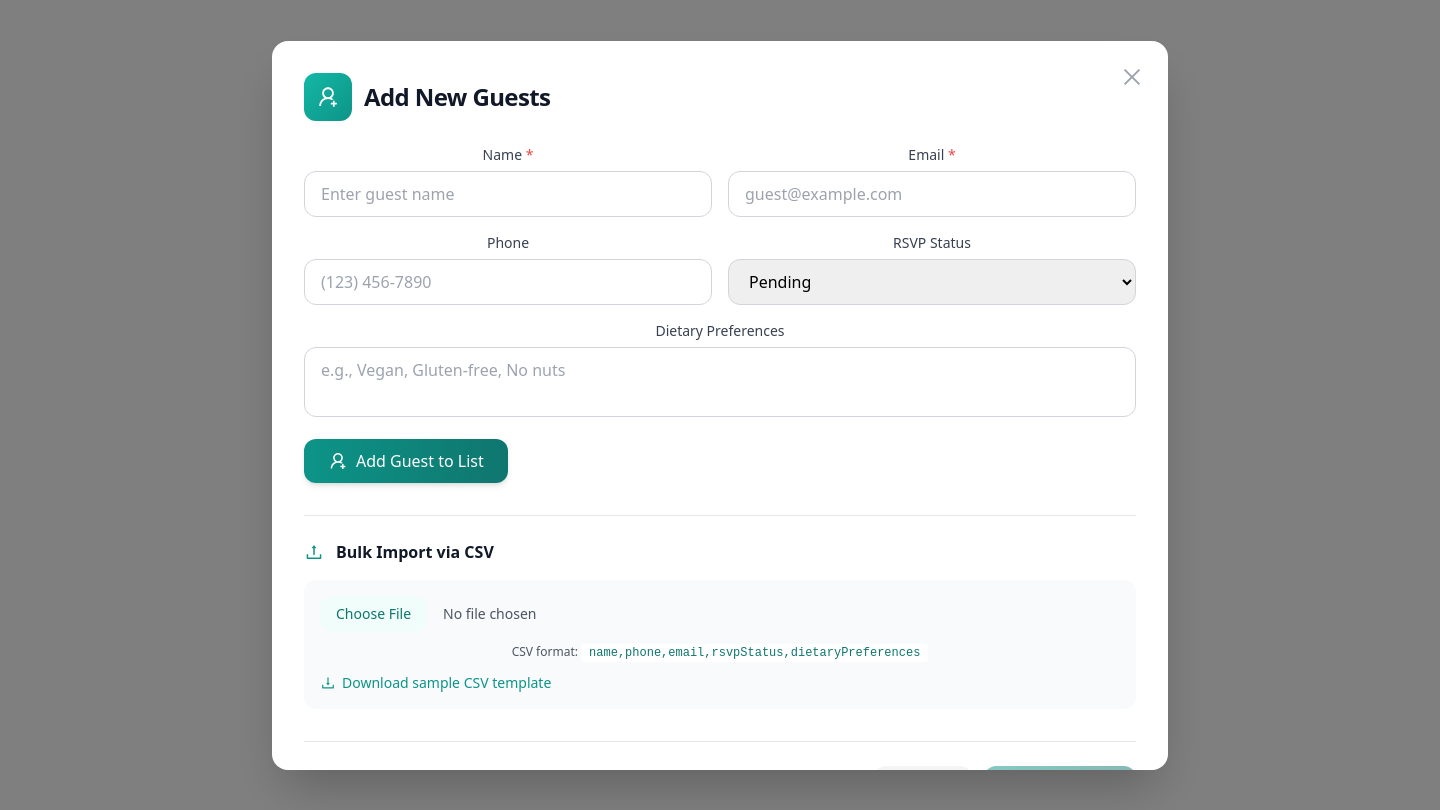
Scenario: AddGuestsModal › removes a guest from the preview list
The width and height of the screenshot is (1440, 810).
Type "Alice" into the field with placeholder "Enter guest name". click: (508, 194)
box: [304,170,712,216]
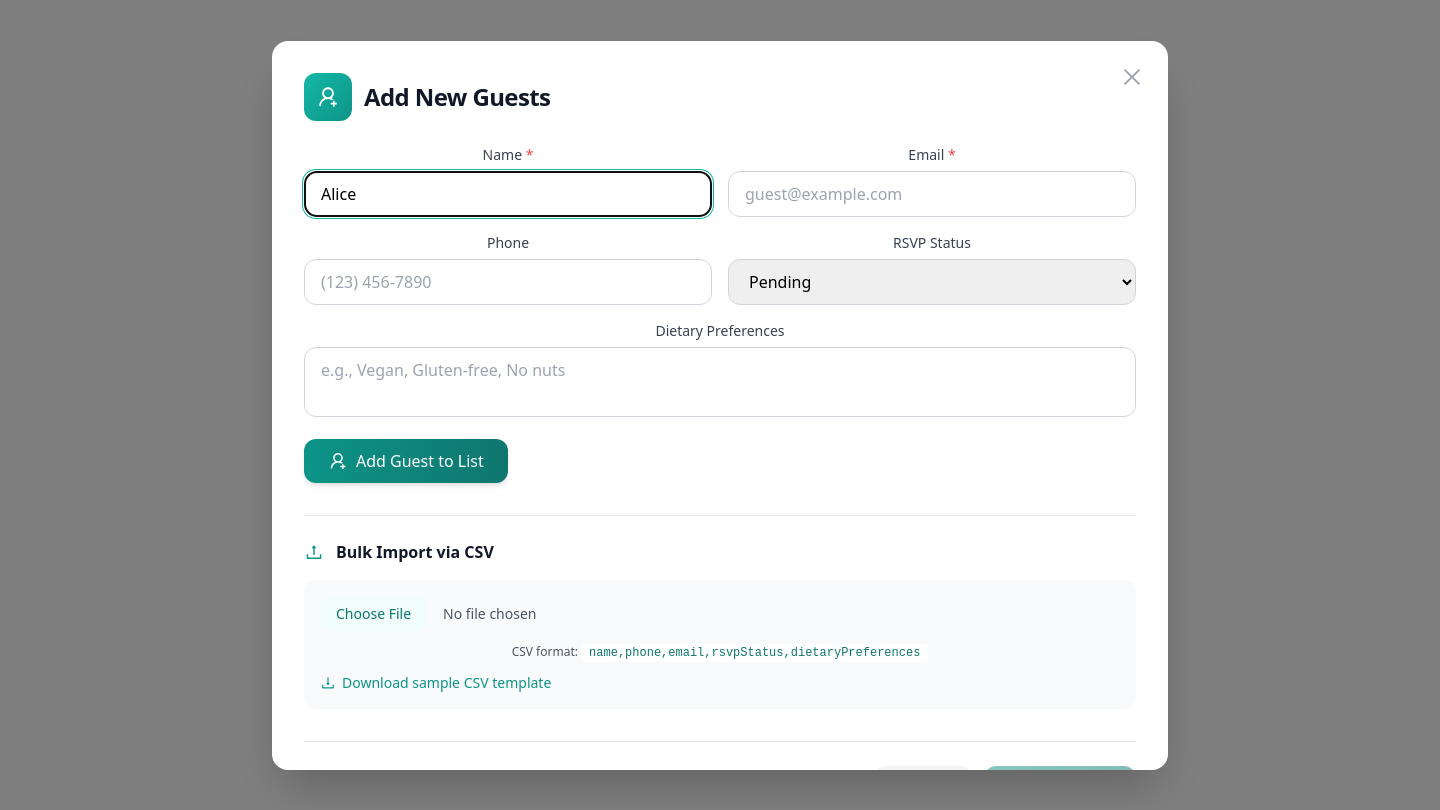
Type "alice@email.com" into the field with placeholder "guest@example.com". click: (932, 194)
box: [728,170,1136,216]
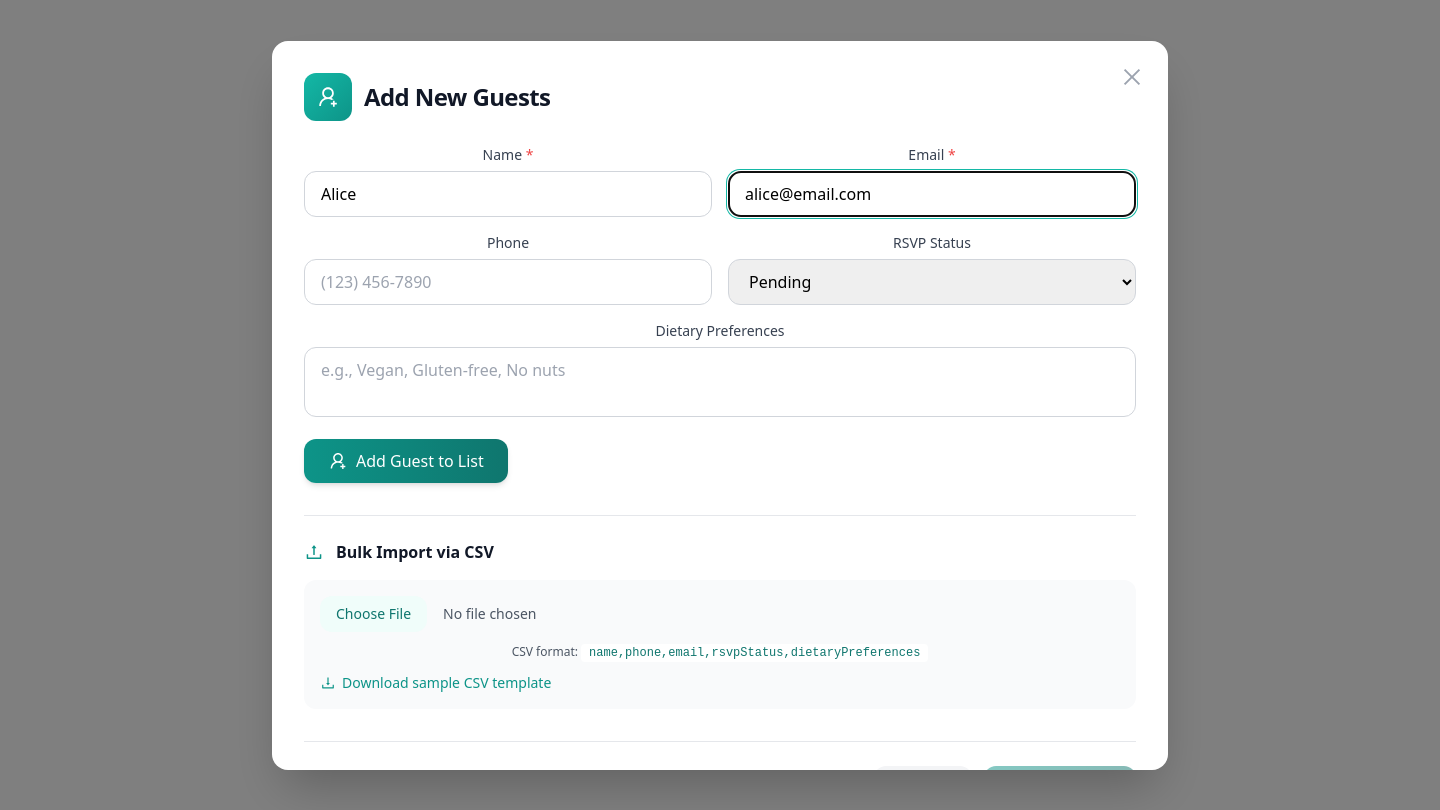
Click the button "Add Guest to List". click: (406, 460)
box: [304,438,508,482]
(page scrolled)
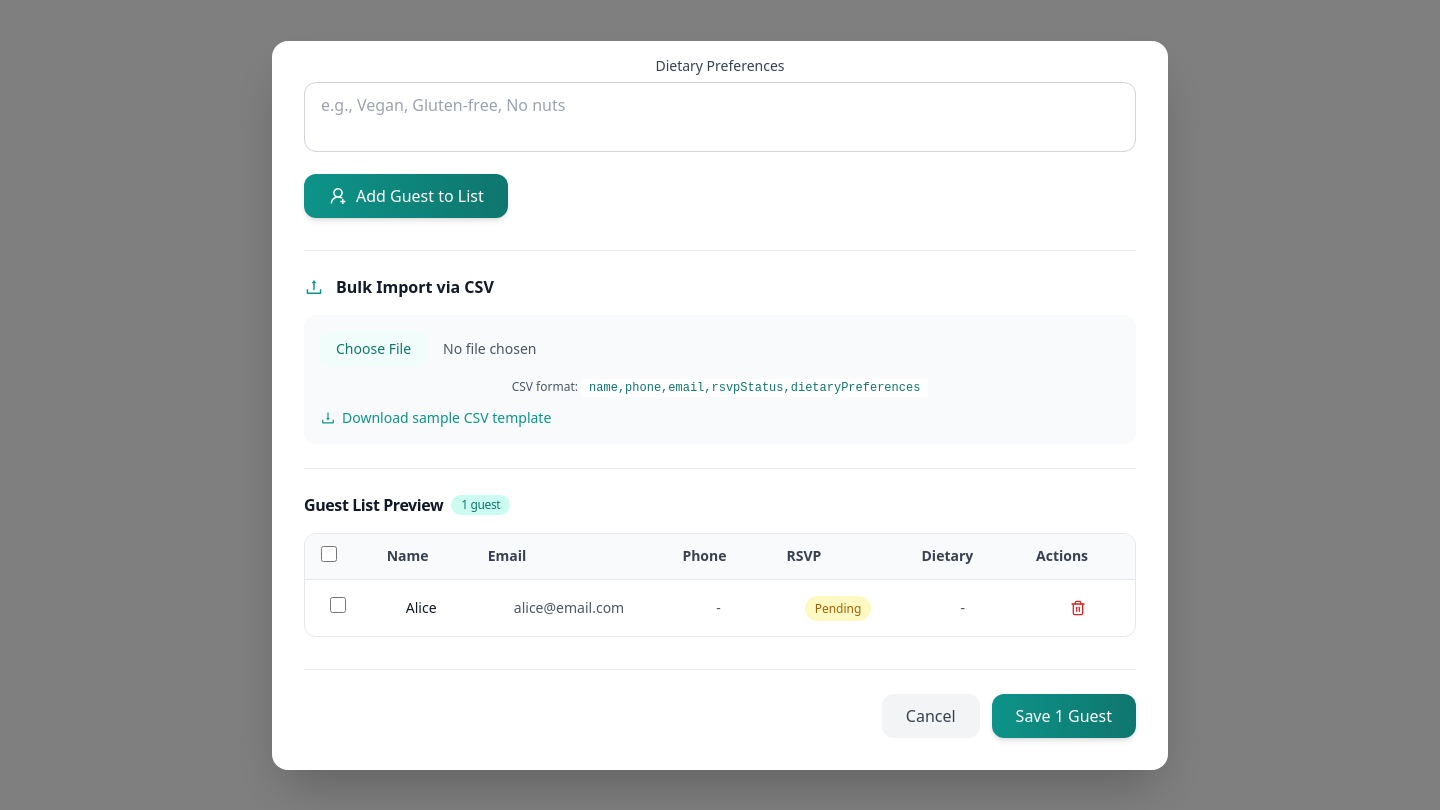
Click the button titled "Remove guest". click: (1078, 608)
box: [1062,592,1094,624]
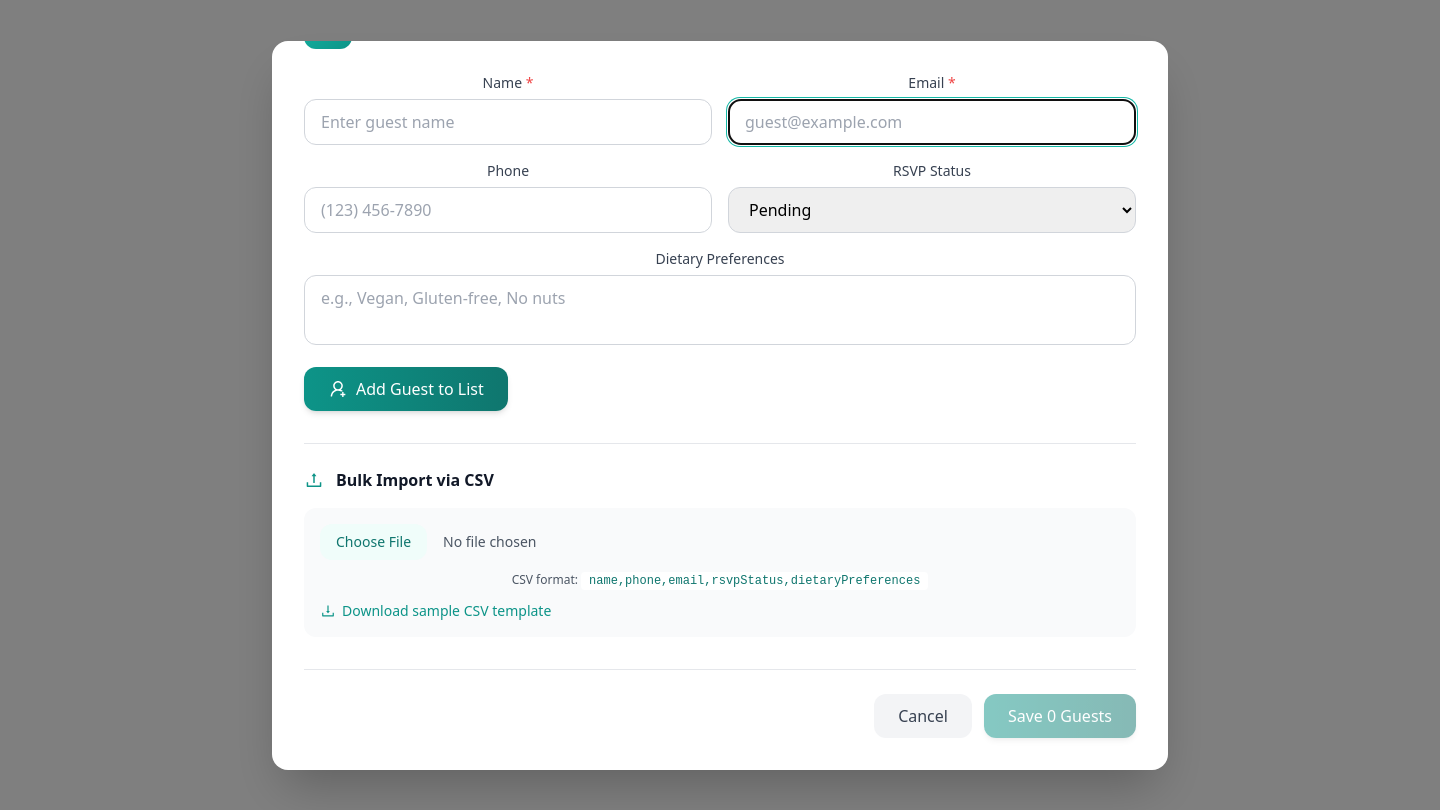
Expected: the text "Alice" is gone
